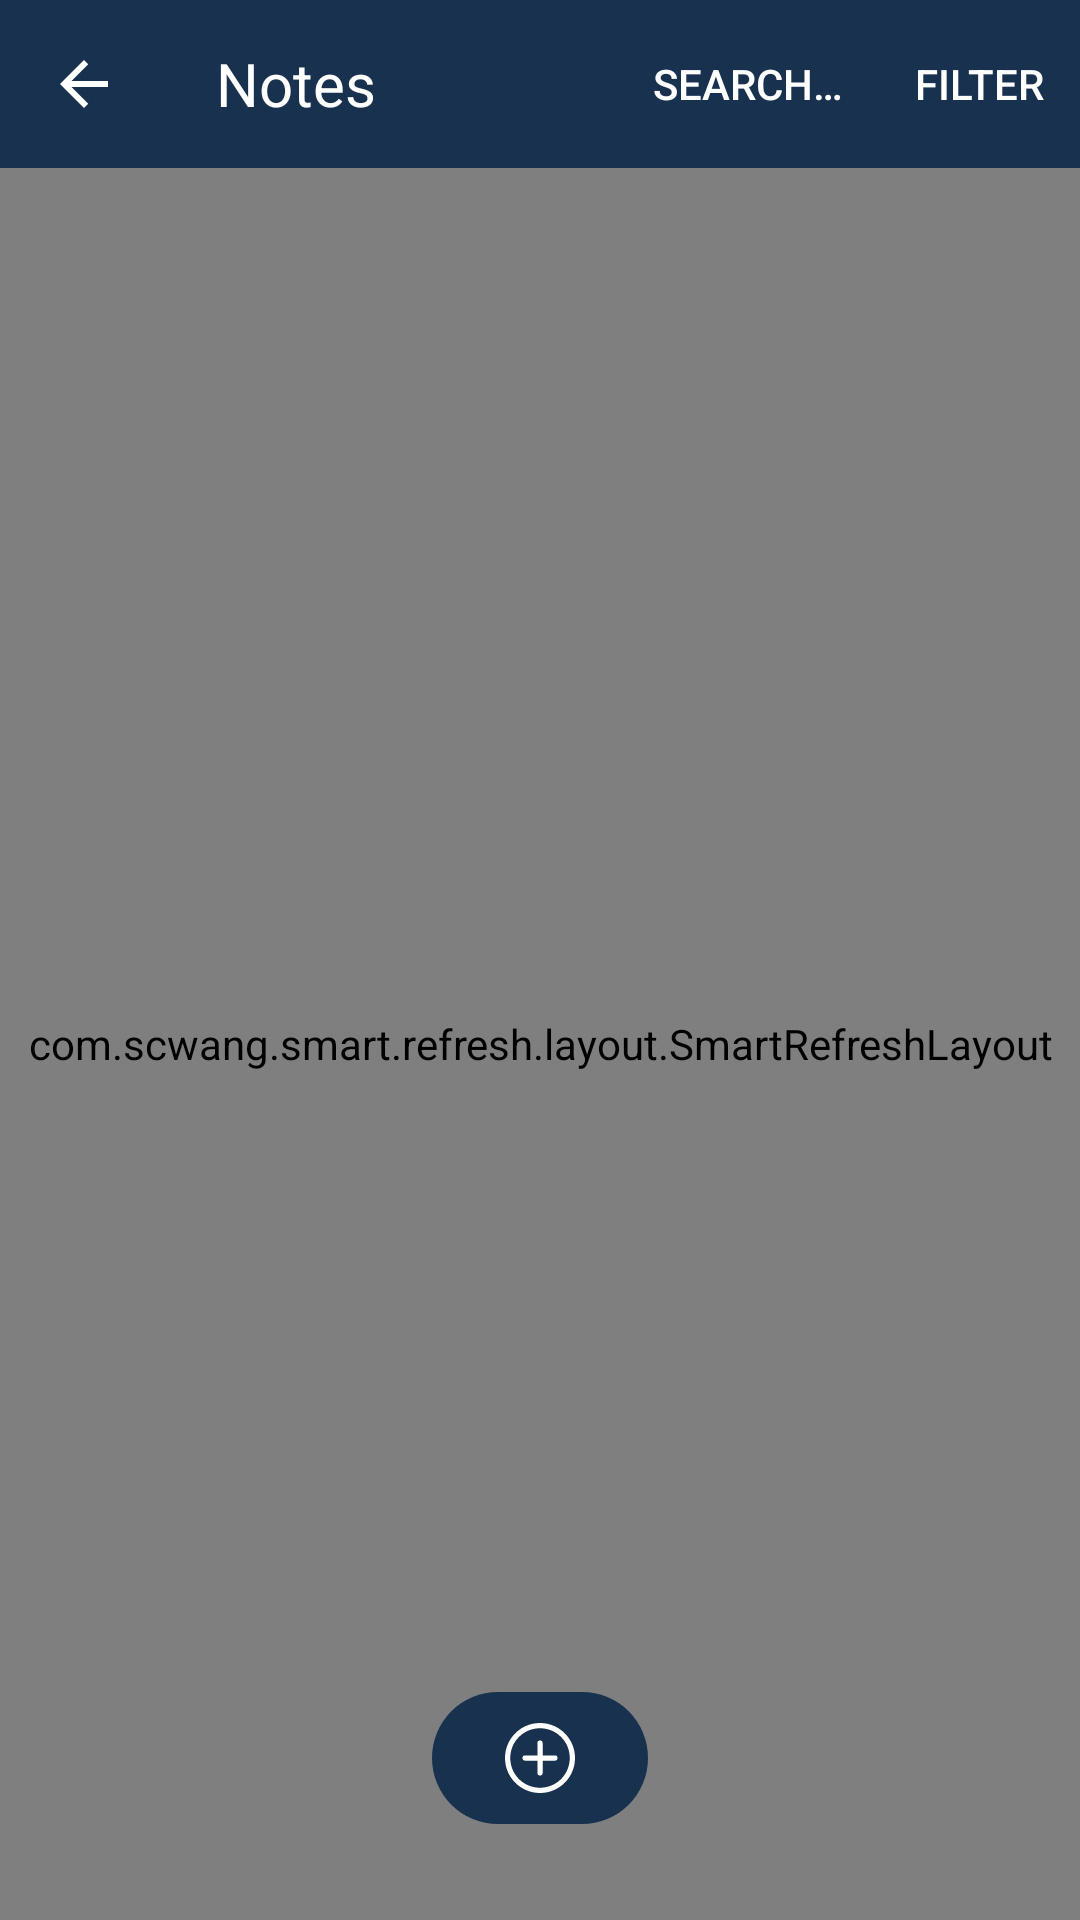

Icon bounding boxes for this 1080px×1920px phone screenshot, format (x1, y1, x2, y2):
add: (505, 1723, 575, 1793)
